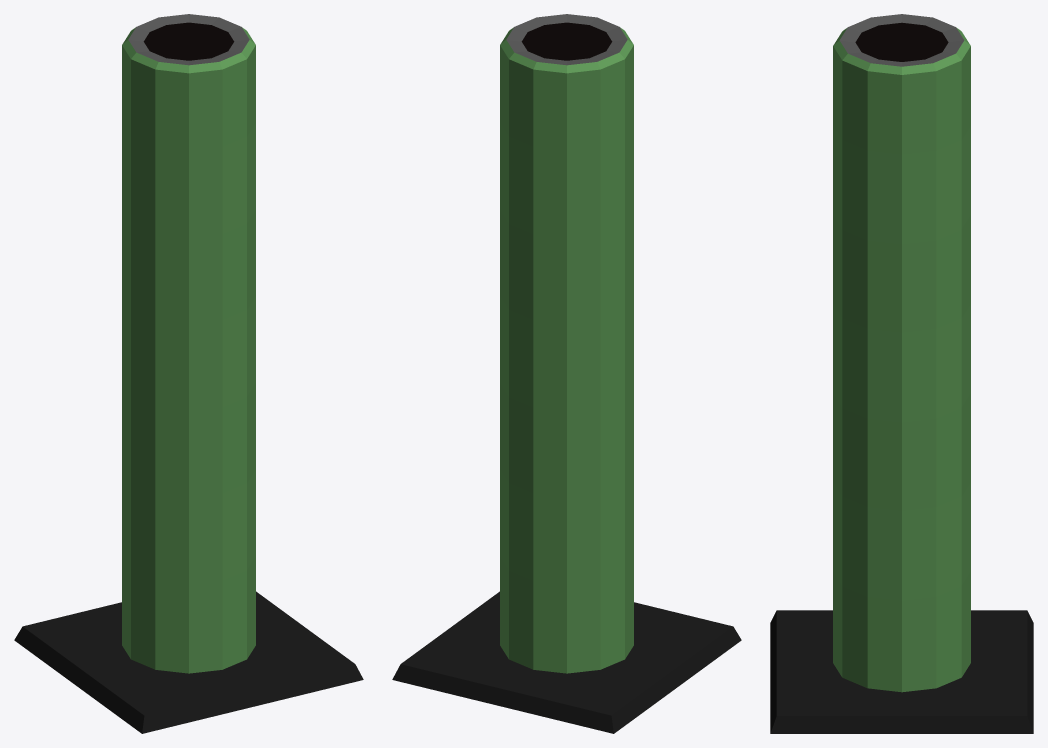
File: GRETube.fbx
3 renders of one model, left to right at view 1: azimuth 30°, elevation 25°; view 2: azimuth 150°, elevation 25°; view 3: azimuth 270°, elevation 25°, orthographic. The views are drawn at different scales.
Parts seen in each view (by area): view 1: PreloadedTube_DummyPreloadedTube; view 2: PreloadedTube_DummyPreloadedTube; view 3: PreloadedTube_DummyPreloadedTube.
Part boxes in pixels (x1,y1,x2,y2): PreloadedTube_DummyPreloadedTube: (14,14,363,733); PreloadedTube_DummyPreloadedTube: (392,14,741,733); PreloadedTube_DummyPreloadedTube: (770,14,1033,733).
Bounding box in the file's own units: 19.1 × 51.07 × 19.1.
